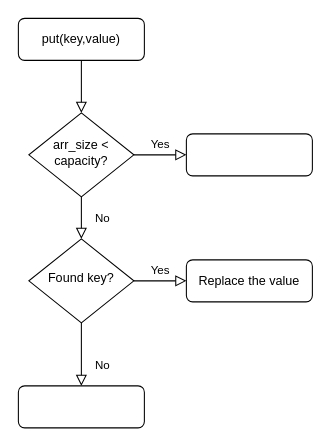
This 331x447 diagram has some shape labels left out. Here are the shapes that lost their labels. From the top down, the centre of each, then its label:
the point at 248,154: Push the element
the point at 80,406: Replace the oldest element to the new element
